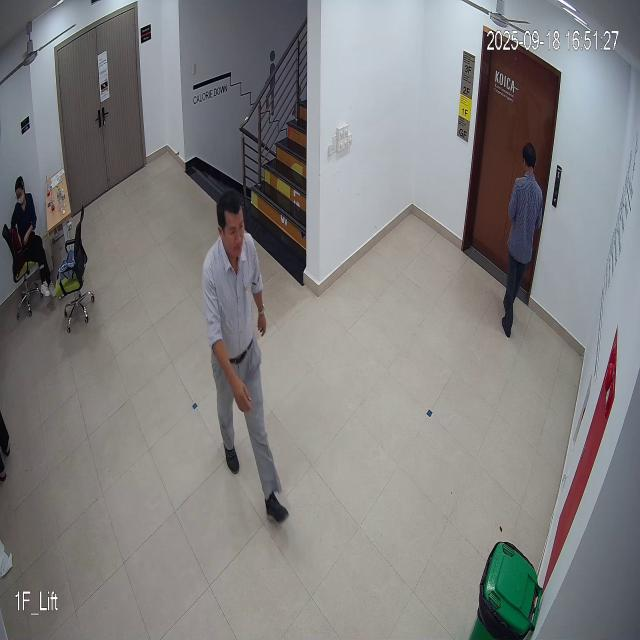face: (215, 192, 249, 262)
